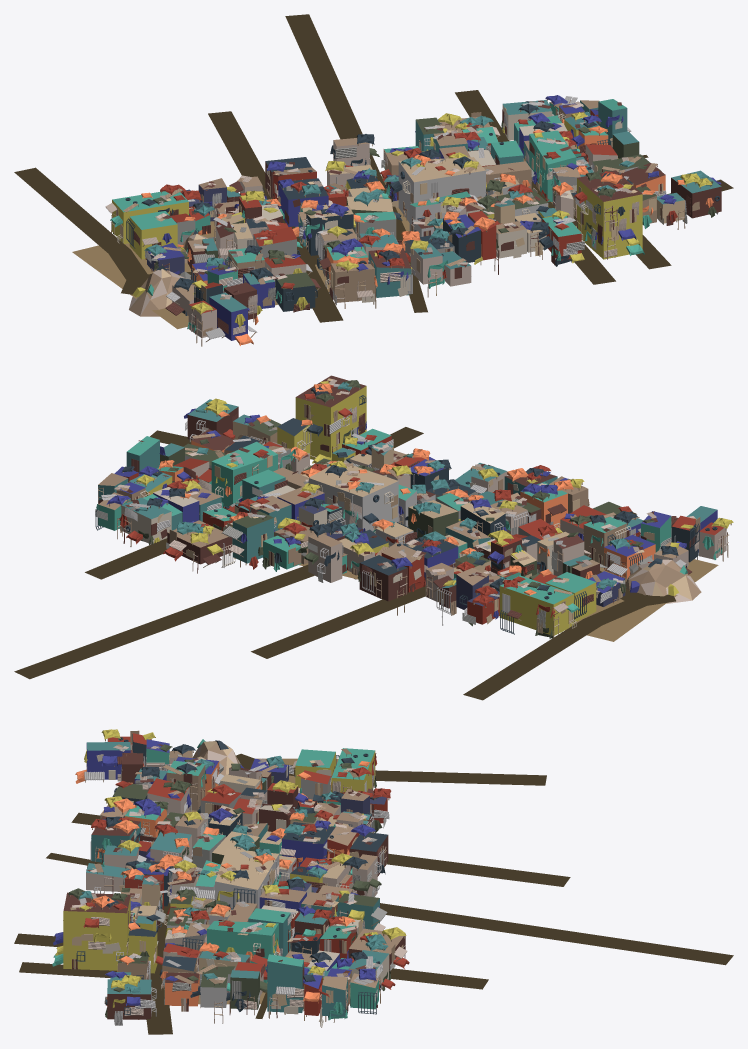
The model's file is TD_Env6.fbx.
3 views of the same model, one above another, from view 1: azimuth 30°, elevation 25°; view 2: azimuth 150°, elevation 25°; view 3: azimuth 270°, elevation 25° (orthographic). The views are drawn at different scales.
Parts seen in each view (by area): view 1: Env_TD_06; view 2: Env_TD_06; view 3: Env_TD_06.
Boxes of the visible parts, x1,y1,x2,y2 form: Env_TD_06: [14, 14, 733, 346]; Env_TD_06: [14, 375, 733, 700]; Env_TD_06: [14, 729, 733, 1034].
Size of the model in its own units: 9222 by 1368 by 9911.
Materials: 3 (1 with a texture image).
